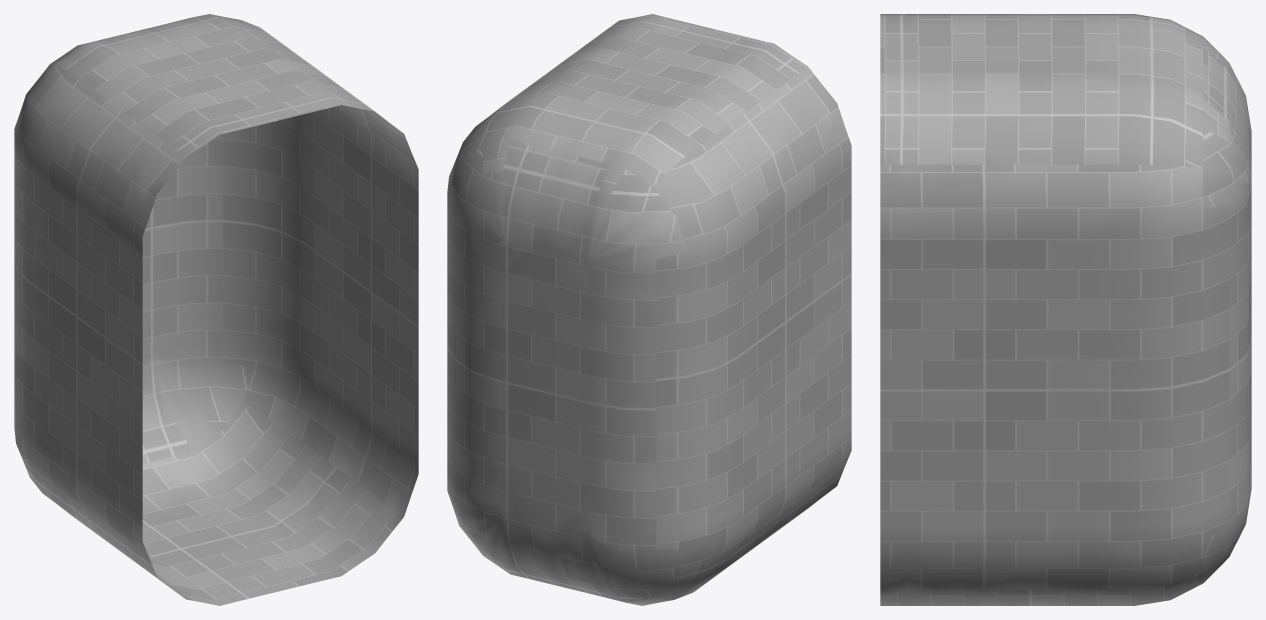
The model's file is proto_tunnel_endpoint_01.fbx.
3 renders of one model, left to right at view 1: azimuth 30°, elevation 25°; view 2: azimuth 150°, elevation 25°; view 3: azimuth 270°, elevation 25°, orthographic. The views are drawn at different scales.
Parts seen in each view (by area): view 1: proto_tunnel_endpoint_01; view 2: proto_tunnel_endpoint_01; view 3: proto_tunnel_endpoint_01.
Part boxes in pixels (x1,y1,x2,y2): proto_tunnel_endpoint_01: (14,14,418,605); proto_tunnel_endpoint_01: (447,14,851,605); proto_tunnel_endpoint_01: (880,14,1251,605).
Bounding box in the file's own units: 190 × 310 × 200.
